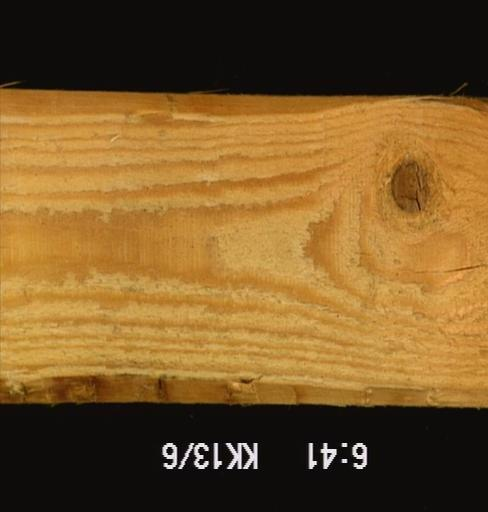dry_knot: (388, 161, 436, 218)
split: (400, 253, 486, 279)
wave: (0, 372, 436, 403), (136, 82, 478, 111)
